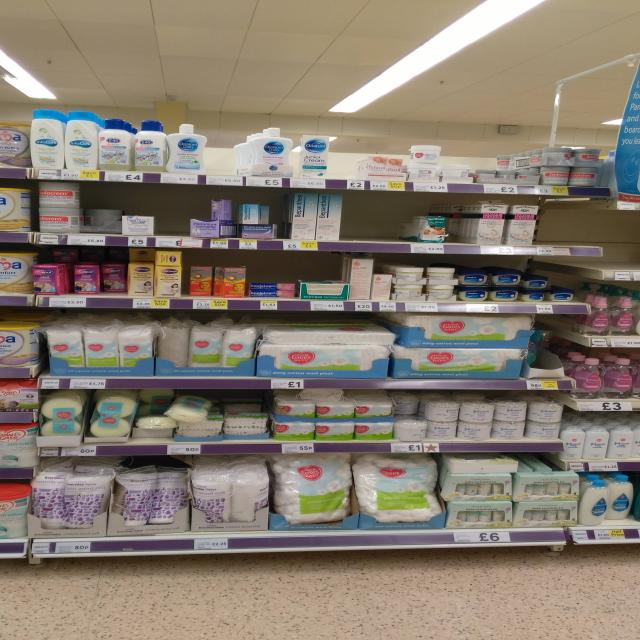void: (344, 194, 413, 242), (539, 204, 594, 244), (159, 182, 188, 235), (338, 136, 362, 178)
